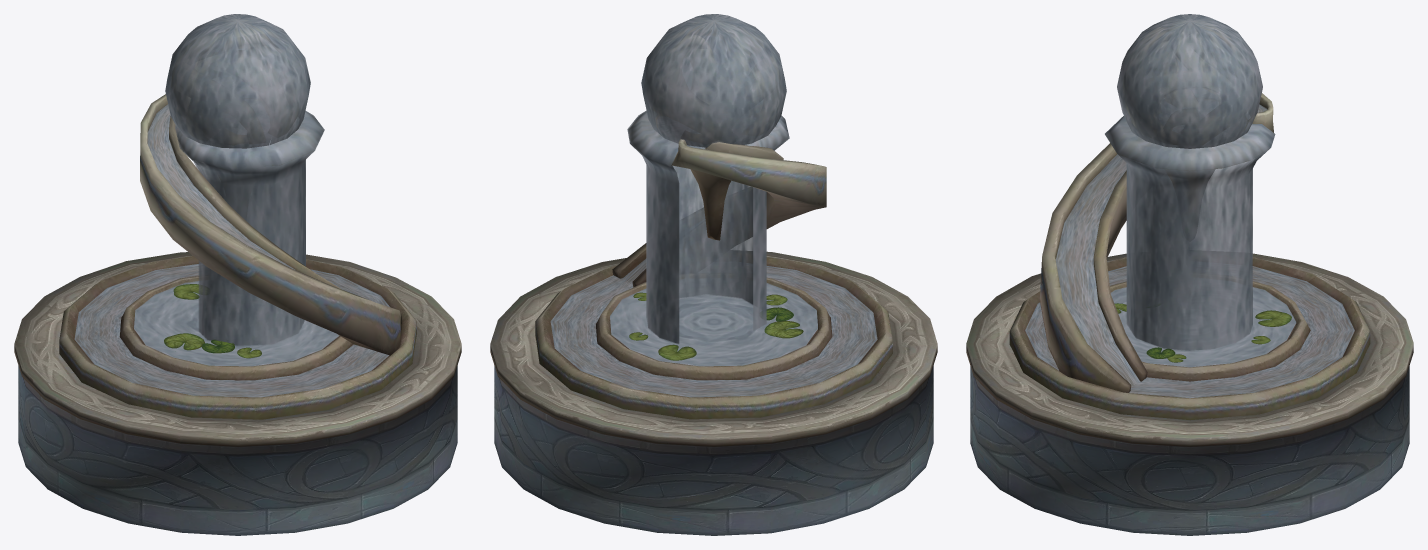
The picture shows the model from 3 angles, left to right: view 1: azimuth 30°, elevation 25°; view 2: azimuth 150°, elevation 25°; view 3: azimuth 270°, elevation 25°; orthographic projection.
Size of the model in its own units: 12.01 by 12.53 by 12.02.
6 materials, 6 textured.
